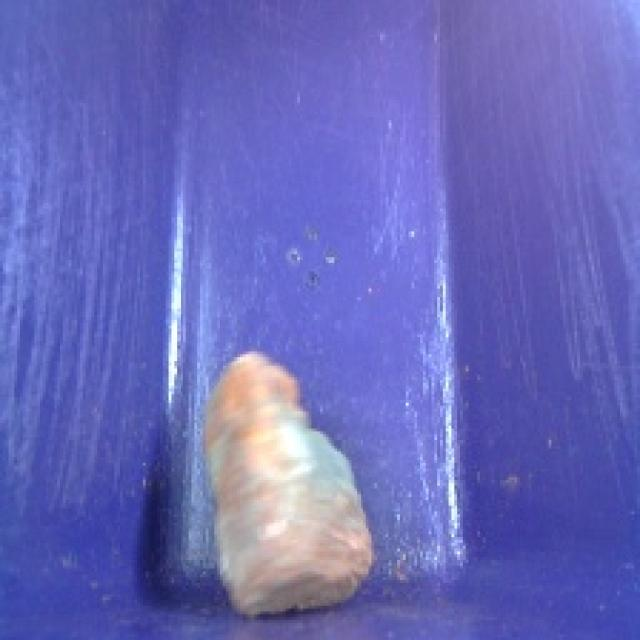brick: (188, 335, 385, 627)
